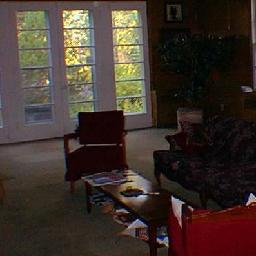Matera: (164, 39, 219, 115)
Puerta: (2, 9, 61, 136), (107, 6, 151, 125), (61, 7, 109, 106)
